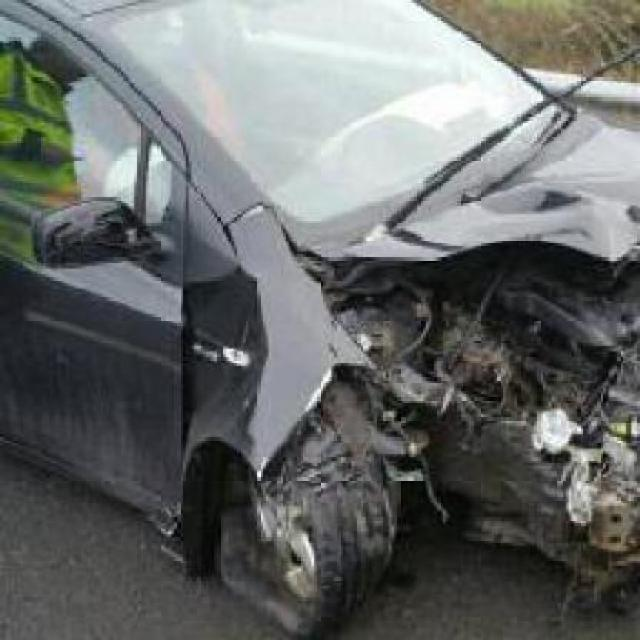damaged-hood: (332, 124, 638, 280)
